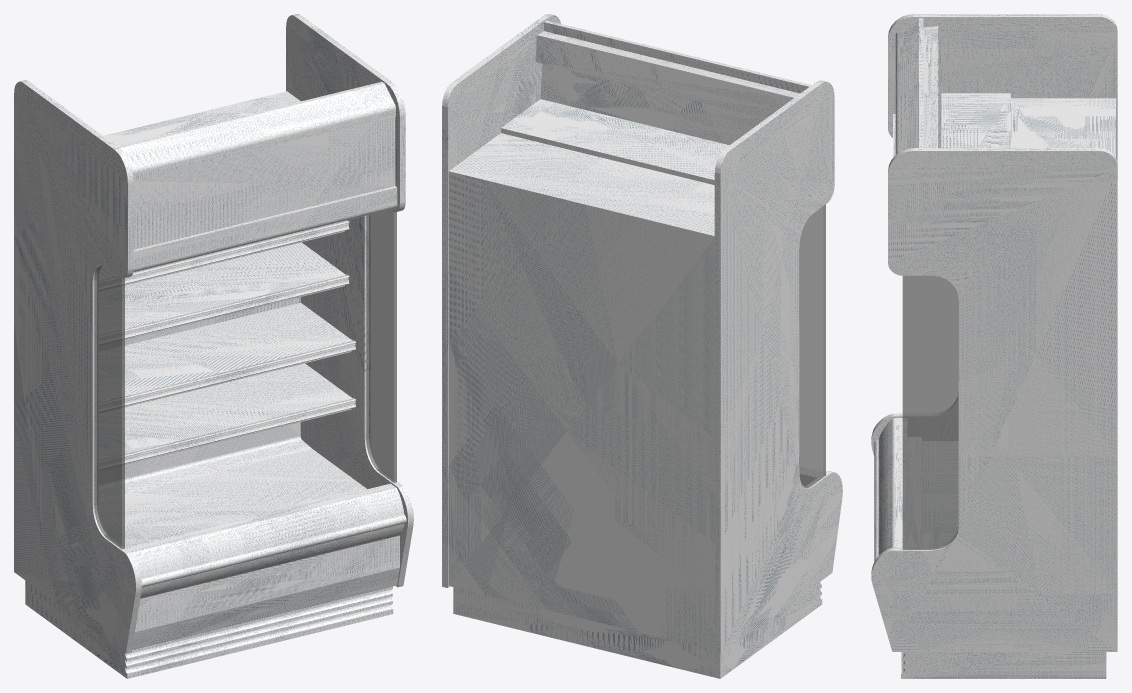
The picture shows the model from 3 angles, left to right: view 1: azimuth 30°, elevation 25°; view 2: azimuth 150°, elevation 25°; view 3: azimuth 270°, elevation 25°; orthographic projection.
Visible parts, largest first — view 1: group_2, group_4, Group_46 (×5), group_1, group_6, Group_47 (×2), group_3, group_5, group_7; view 2: group_1, group_4, group_2, group_6, group_3, group_5; view 3: group_6, group_4, group_7, group_2, group_1, group_3.
Part boxes in pixels (bbox=[...]): group_2: bbox=[99, 81, 397, 547]; group_4: bbox=[14, 80, 141, 653]; Group_46 (×5): bbox=[99, 220, 356, 413]; group_1: bbox=[104, 91, 406, 649]; group_6: bbox=[286, 14, 413, 587]; Group_47 (×2): bbox=[99, 363, 355, 470]; group_3: bbox=[25, 580, 393, 678]; group_5: bbox=[94, 265, 124, 549]; group_7: bbox=[366, 209, 396, 482]; group_1: bbox=[448, 133, 822, 650]; group_4: bbox=[714, 80, 842, 654]; group_2: bbox=[501, 20, 811, 184]; group_6: bbox=[442, 14, 560, 587]; group_3: bbox=[453, 582, 822, 678]; group_5: bbox=[799, 204, 825, 487]; group_6: bbox=[871, 148, 1117, 651]; group_4: bbox=[871, 14, 1117, 455]; group_7: bbox=[902, 275, 958, 549]; group_2: bbox=[893, 18, 1010, 547]; group_1: bbox=[874, 98, 1115, 561]; group_3: bbox=[901, 652, 1106, 678].
Size of the model in its own units: 48 by 36.5 by 86.78.
